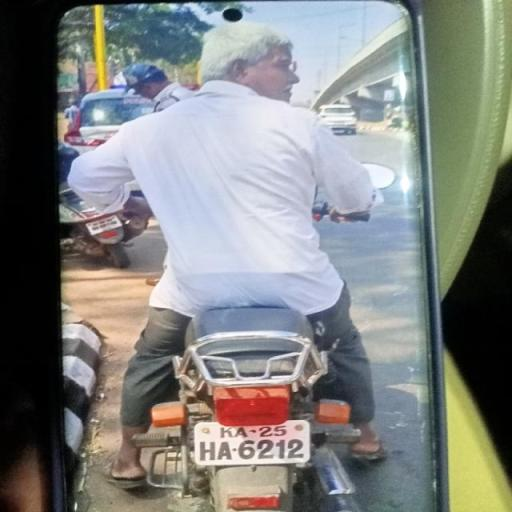bike: (78, 16, 386, 512)
numberplate: (197, 422, 313, 465)
withouthelmet: (204, 24, 290, 90)
